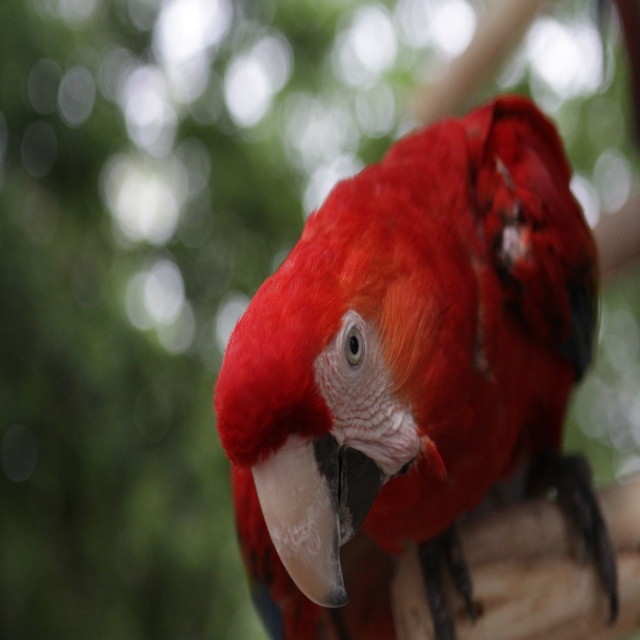Parrot: (213, 93, 619, 640)
